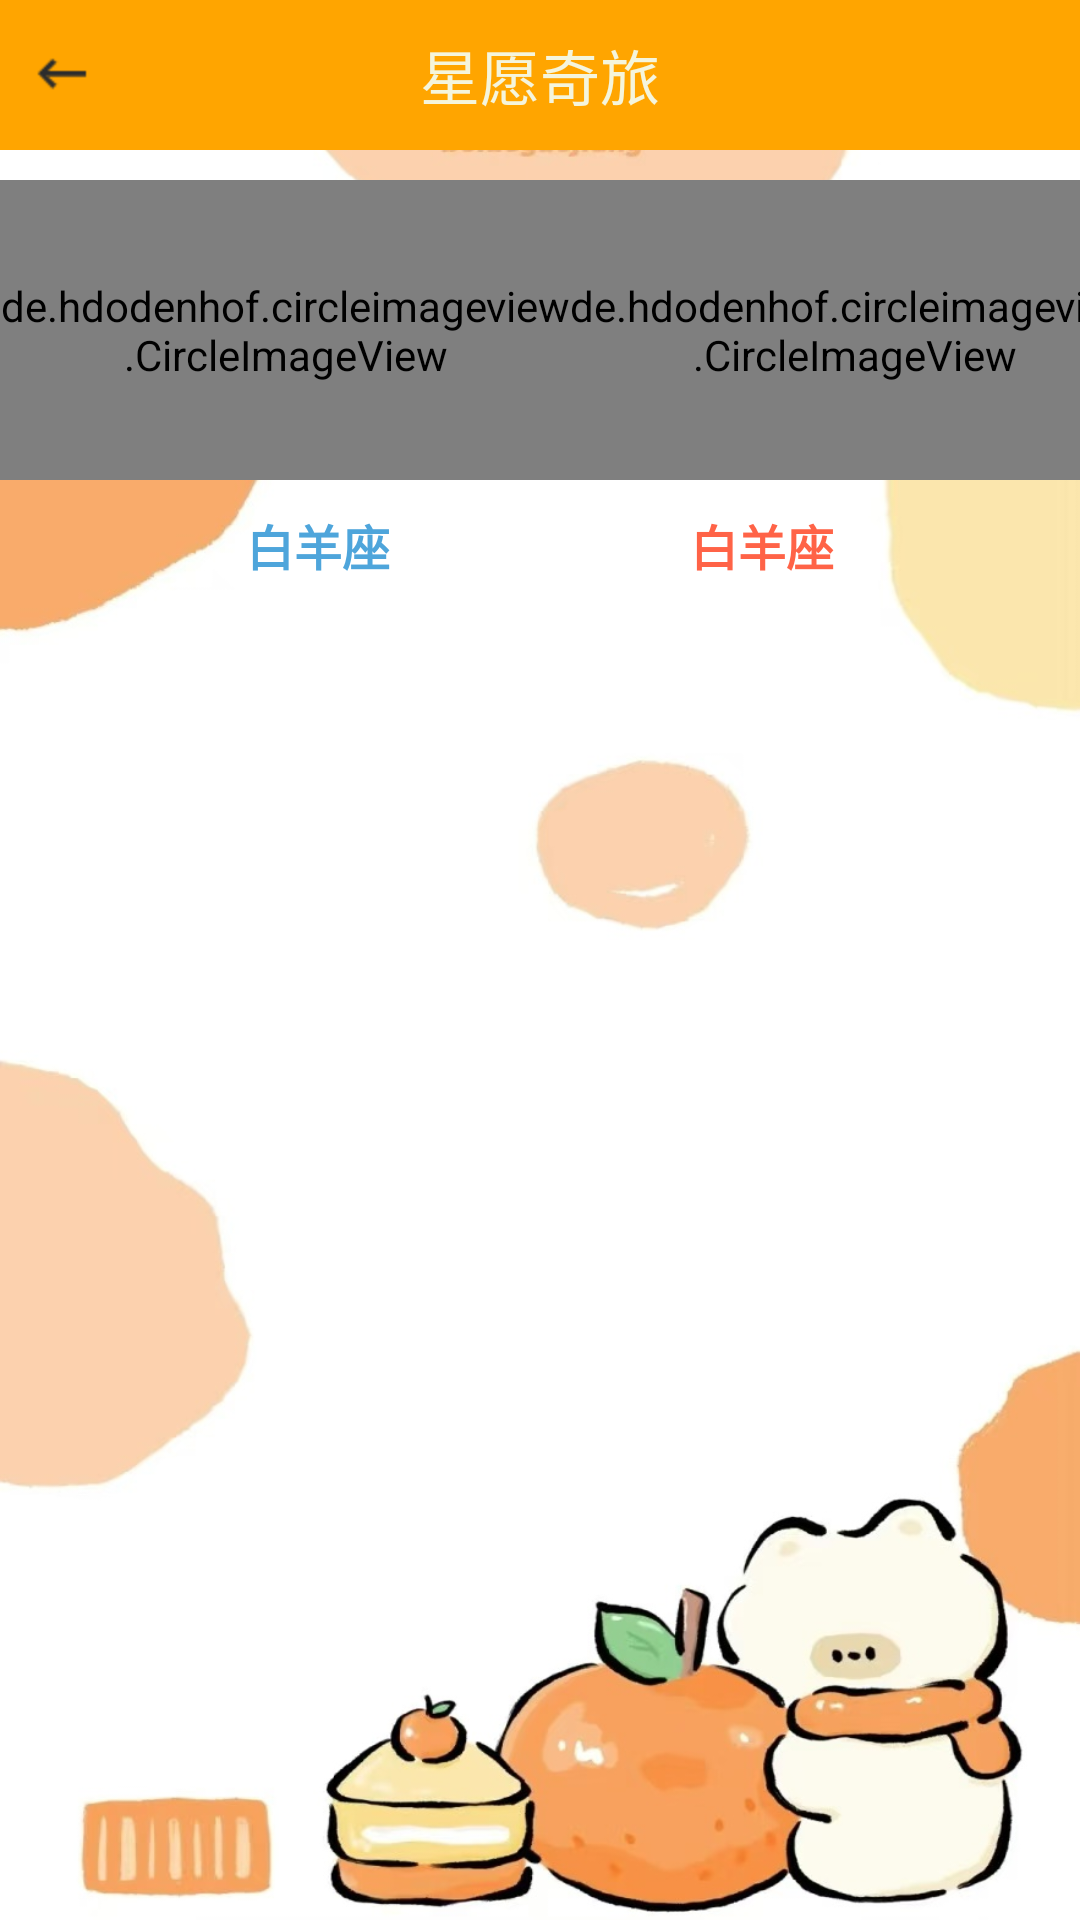

Named icons in this screenshot (1080x1920) and their centers, (x,y):
leftback: (62,73)
